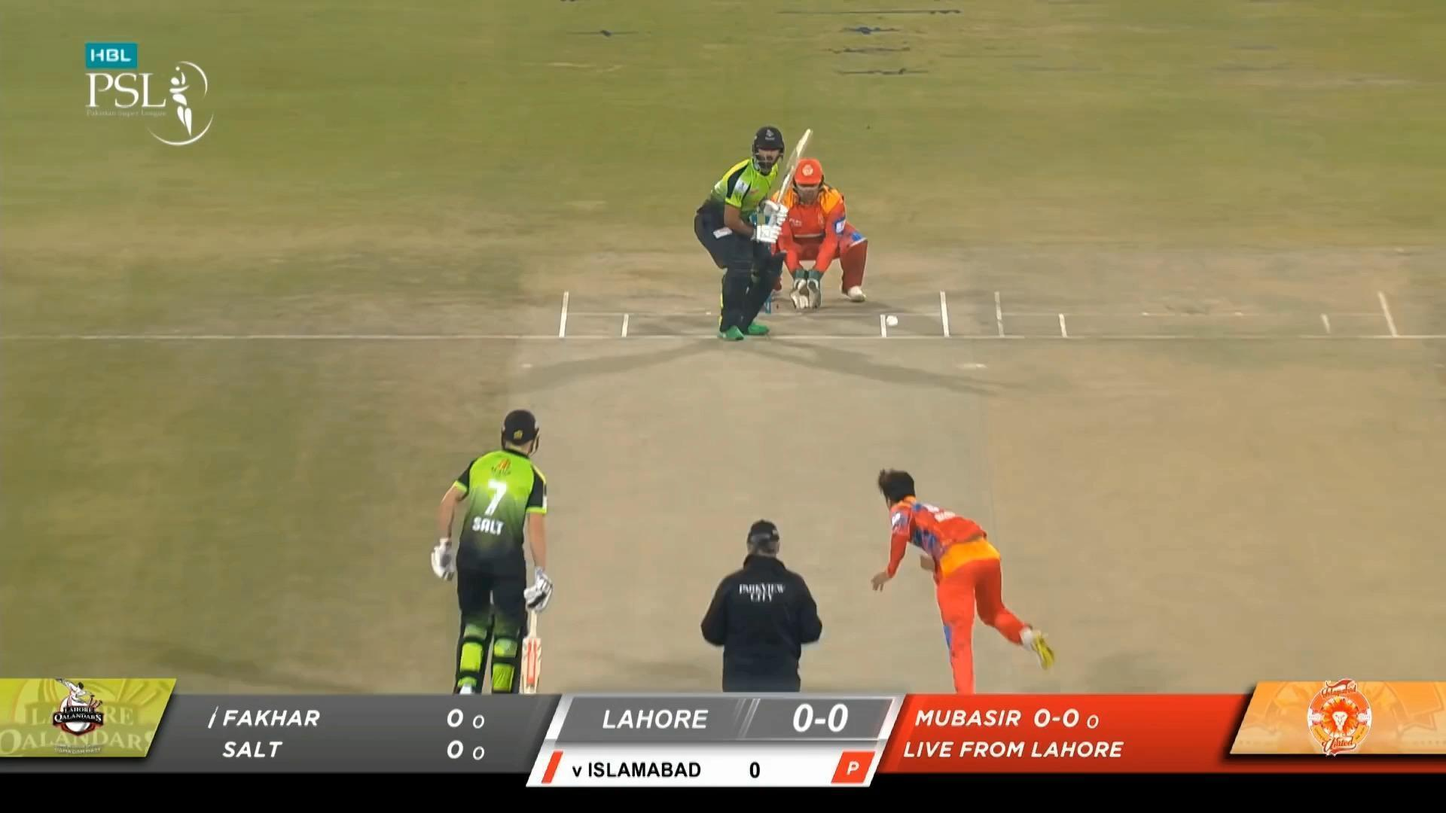BM 1: (693, 121, 815, 344)
BO: (870, 466, 1055, 694)
